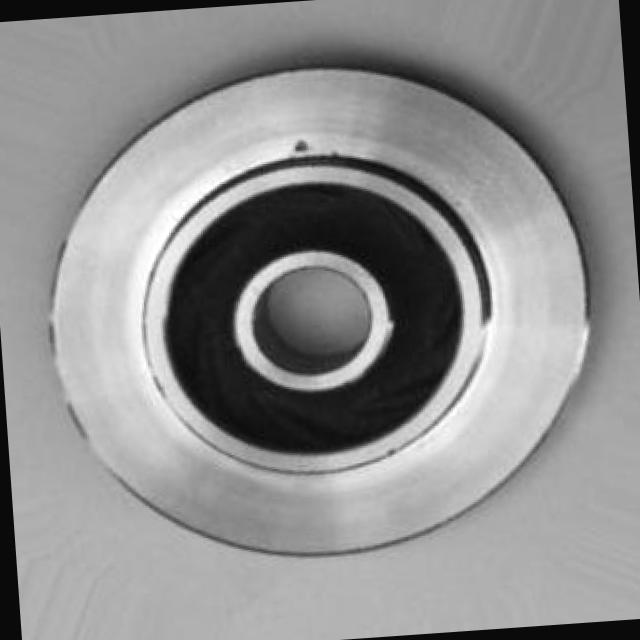Defect: (286, 128, 360, 170)
